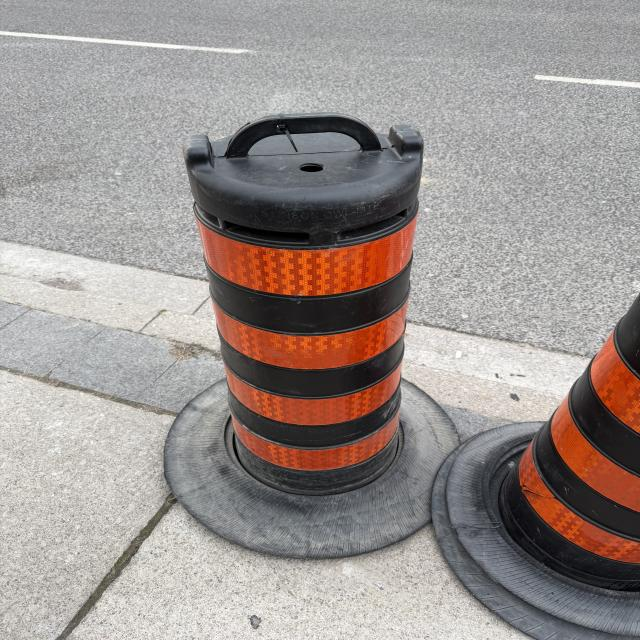Teraffic Barrel: (165, 113, 457, 558), (433, 297, 640, 640)
